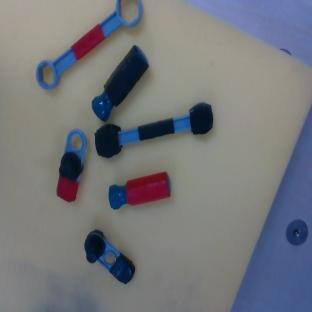part_1_bad: (75, 227, 140, 291)
part_1_good: (51, 128, 92, 203)
part_2_bad: (86, 44, 154, 123)
part_2_good: (105, 171, 173, 210)
part_3_bad: (91, 98, 217, 160)
